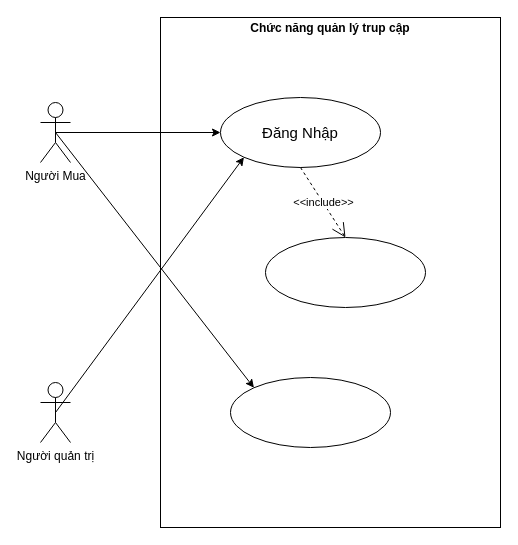
Image size: 518x545. Some labels were removed from this diagram. Each missing label, with the box of its shape:
Kiểm tra vai trò tài khoản: (264, 236, 426, 308)
Đăng Ký: (230, 376, 390, 448)
